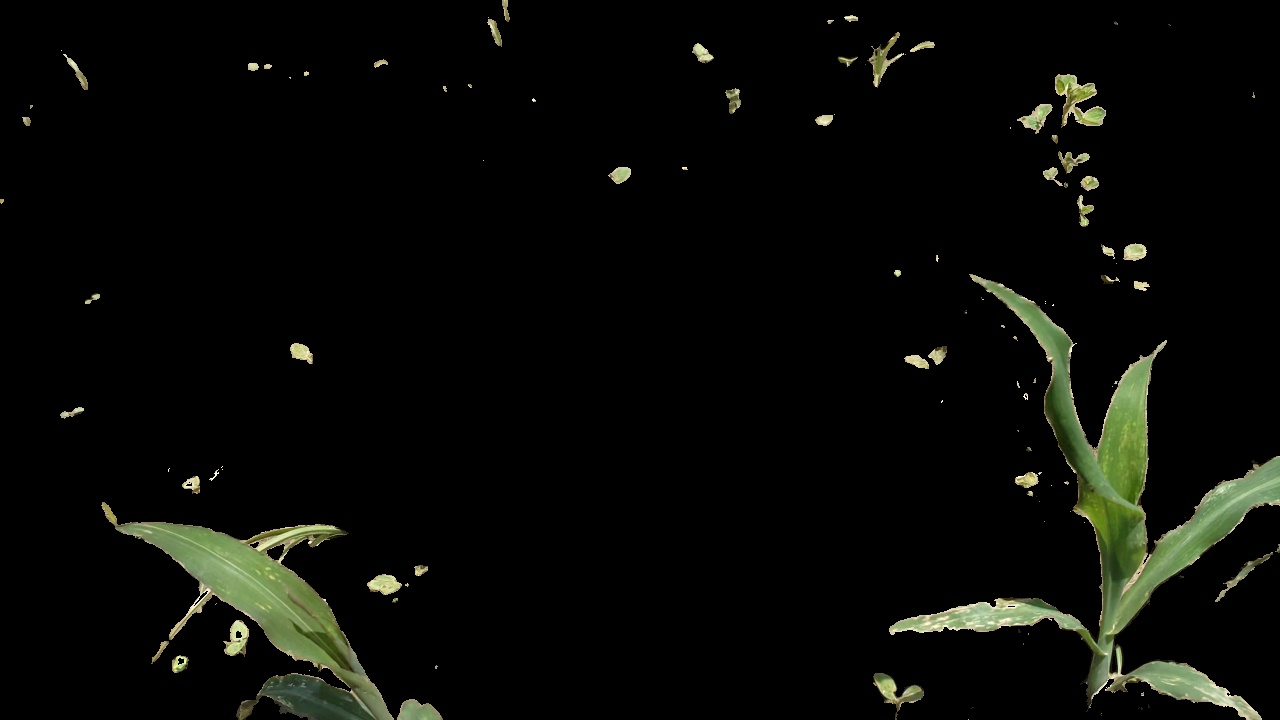crop: (938, 252, 1280, 720), (102, 502, 443, 720)
weed: (822, 17, 945, 94), (1031, 151, 1111, 222), (1028, 64, 1096, 128), (358, 564, 443, 604), (875, 672, 938, 720), (895, 341, 959, 372), (1098, 244, 1156, 269)
